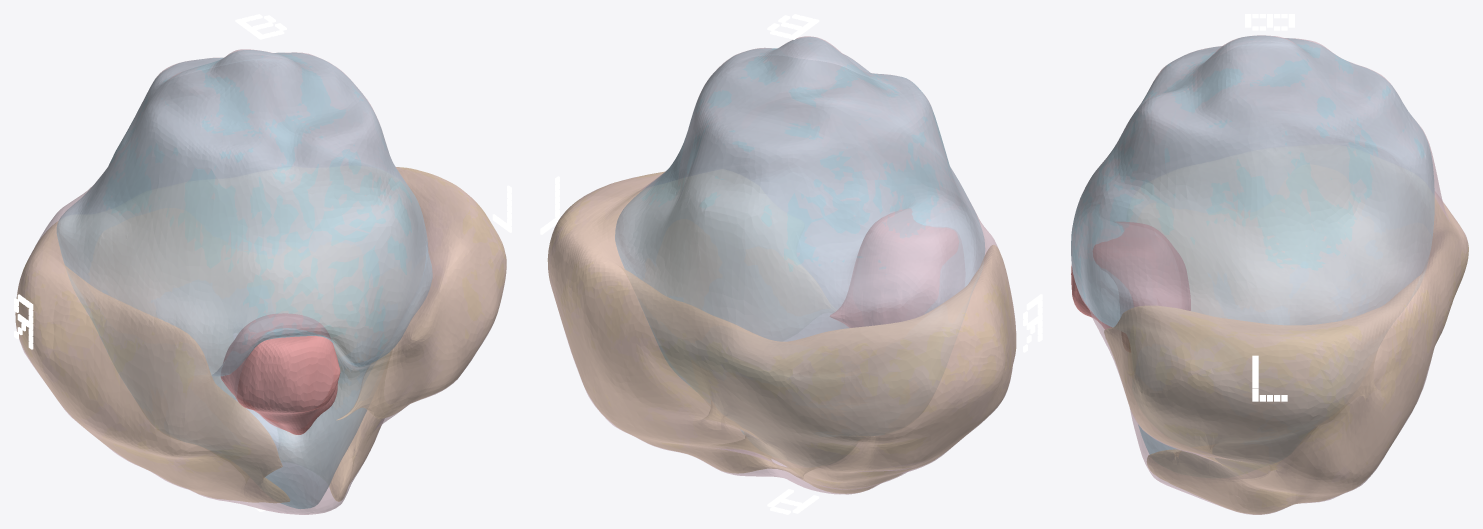
3 views of the same model, side by side, from view 1: azimuth 30°, elevation 25°; view 2: azimuth 150°, elevation 25°; view 3: azimuth 270°, elevation 25° (orthographic).
Visible parts, largest first — view 1: prostate_gland, transition_zone, peripheral_zone, lesion_01, pv_ar_marker_B, pv_ar_marker_R; view 2: prostate_gland, transition_zone, peripheral_zone, lesion_01, pv_ar_marker_B, pv_ar_marker_R, pv_ar_marker_A; view 3: prostate_gland, transition_zone, peripheral_zone, lesion_01, pv_ar_marker_B, pv_ar_marker_L.
Boxes of the visible parts, x1,y1,x2,y2 form: prostate_gland: [15, 49, 506, 514]; transition_zone: [57, 50, 432, 508]; peripheral_zone: [15, 167, 506, 502]; lesion_01: [221, 313, 340, 434]; pv_ar_marker_B: [235, 14, 286, 39]; pv_ar_marker_R: [14, 294, 33, 349]; prostate_gland: [548, 36, 1016, 494]; transition_zone: [615, 37, 984, 435]; peripheral_zone: [547, 171, 1016, 493]; lesion_01: [830, 208, 964, 327]; pv_ar_marker_B: [767, 14, 819, 39]; pv_ar_marker_R: [1023, 294, 1042, 352]; pv_ar_marker_A: [767, 489, 819, 514]; prostate_gland: [1071, 35, 1468, 514]; transition_zone: [1071, 36, 1434, 454]; peripheral_zone: [1104, 197, 1468, 514]; lesion_01: [1071, 222, 1190, 351]; pv_ar_marker_B: [1245, 14, 1294, 30]; pv_ar_marker_L: [1252, 355, 1287, 401].
Bounding box in the file's own units: 0.0631 × 0.0595 × 0.0448.
